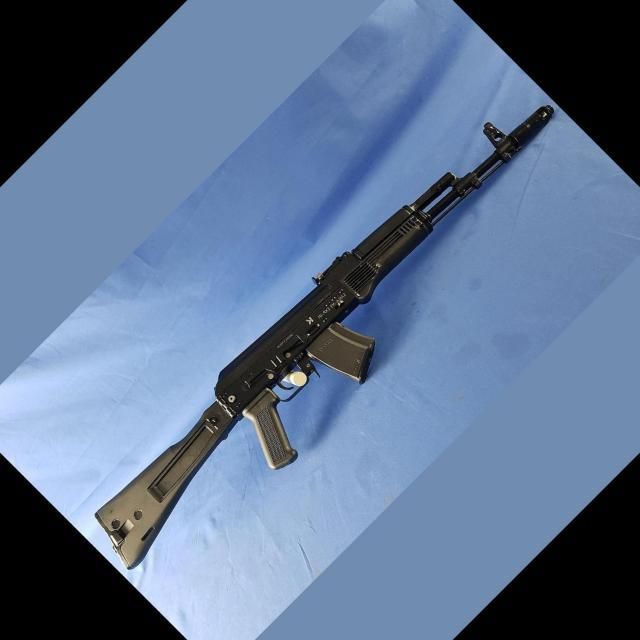weapon: (96, 102, 557, 572)
